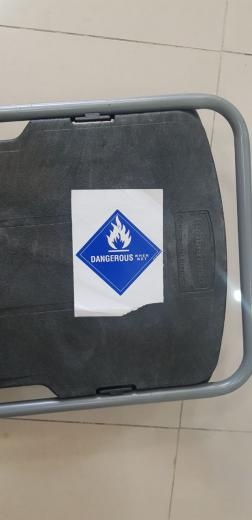Dangerous when wet: (75, 209, 161, 296)
